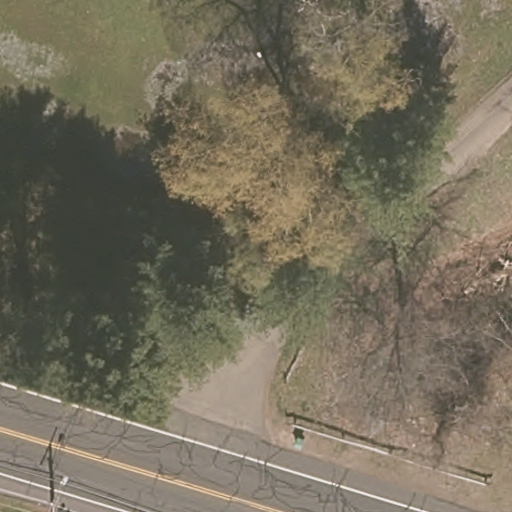DT: (45, 478, 71, 512)
